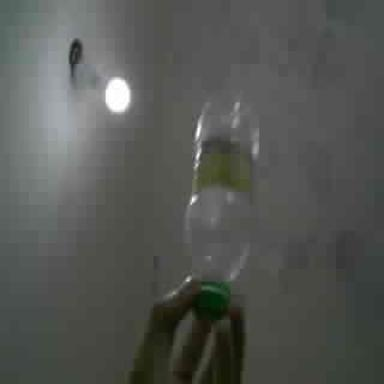bottle: (185, 99, 258, 314)
